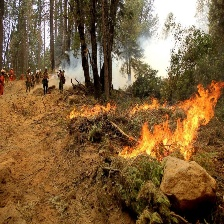fire: (68, 79, 224, 162)
smoke: (63, 1, 210, 86)
